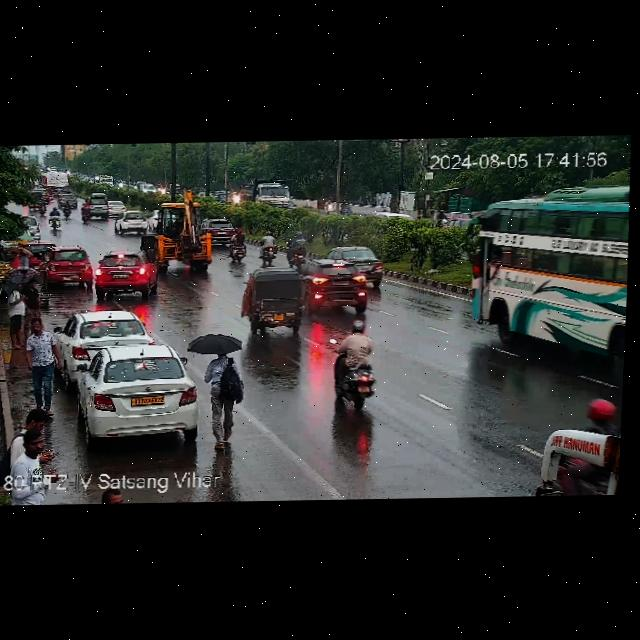bus: (465, 180, 631, 364), (531, 410, 622, 496)
car: (68, 344, 207, 442), (310, 244, 389, 314), (54, 308, 150, 362), (238, 266, 311, 336), (94, 250, 160, 298), (40, 245, 93, 285), (113, 209, 153, 233), (202, 218, 238, 241), (104, 199, 127, 214), (87, 203, 108, 218), (89, 193, 109, 204), (58, 192, 76, 204)
motorcycle: (322, 320, 382, 410), (573, 392, 623, 434), (258, 229, 307, 264), (222, 232, 249, 266), (325, 197, 353, 212), (80, 201, 93, 223), (435, 208, 446, 226), (51, 208, 59, 229), (62, 201, 70, 216)
person: (196, 346, 240, 445), (23, 318, 61, 410), (12, 410, 61, 470), (3, 286, 27, 348), (25, 274, 44, 316), (9, 248, 32, 274)
truck: (146, 185, 219, 273), (242, 179, 301, 212), (39, 165, 72, 194)
